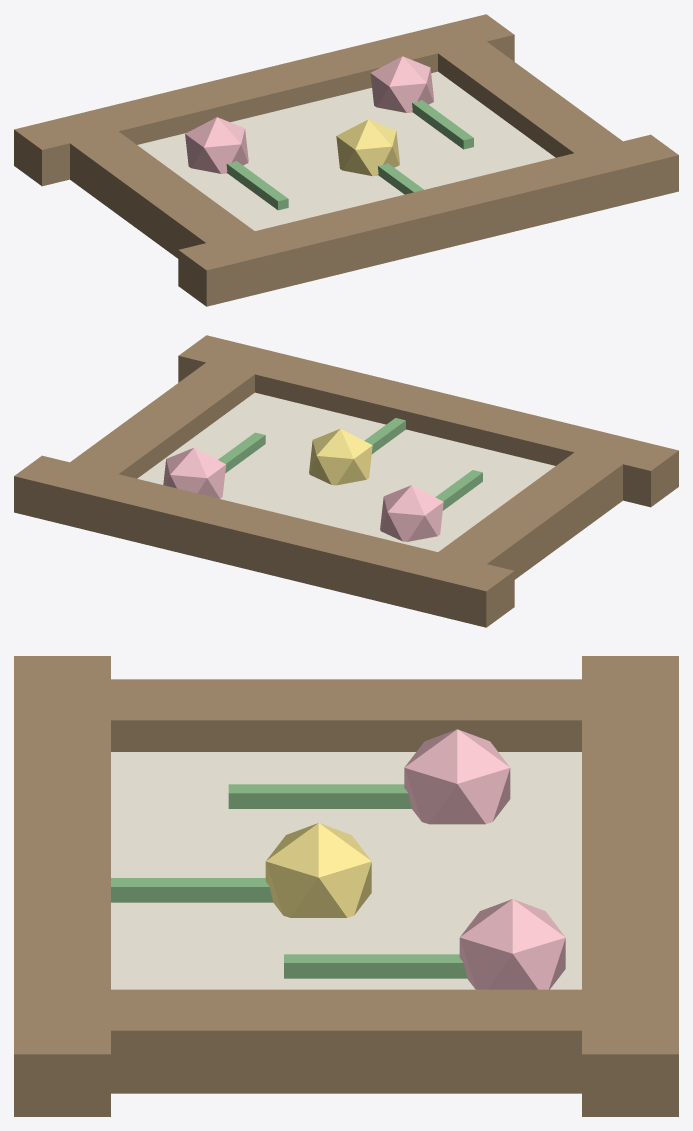
The model's file is 18-Casas_decor_cuadro_floral.glb.
3 views of the same model, one above another, from view 1: azimuth 30°, elevation 25°; view 2: azimuth 150°, elevation 25°; view 3: azimuth 270°, elevation 25° (orthographic). The views are drawn at different scales.
Parts seen in each view (by area): view 1: SM_CuadroFl_Marco, SM_CuadroFl_Lienzo, SM_CuadroFl_Flor, SM_CuadroFl_Flor.002, SM_CuadroFl_Flor.001, SM_CuadroFl_Tallo, SM_CuadroFl_Tallo.002, SM_CuadroFl_Tallo.001; view 2: SM_CuadroFl_Marco, SM_CuadroFl_Lienzo, SM_CuadroFl_Flor, SM_CuadroFl_Flor.001, SM_CuadroFl_Flor.002, SM_CuadroFl_Tallo.002, SM_CuadroFl_Tallo, SM_CuadroFl_Tallo.001; view 3: SM_CuadroFl_Marco, SM_CuadroFl_Lienzo, SM_CuadroFl_Flor, SM_CuadroFl_Flor.001, SM_CuadroFl_Flor.002, SM_CuadroFl_Tallo, SM_CuadroFl_Tallo.002, SM_CuadroFl_Tallo.001.
Boxes of the visible parts, x1,y1,x2,y2 form: SM_CuadroFl_Marco: [14, 14, 678, 306]; SM_CuadroFl_Lienzo: [137, 71, 555, 230]; SM_CuadroFl_Flor: [185, 117, 248, 173]; SM_CuadroFl_Flor.002: [370, 56, 433, 112]; SM_CuadroFl_Flor.001: [336, 119, 399, 176]; SM_CuadroFl_Tallo: [226, 161, 288, 210]; SM_CuadroFl_Tallo.002: [412, 100, 473, 149]; SM_CuadroFl_Tallo.001: [378, 163, 423, 194]; SM_CuadroFl_Marco: [14, 335, 678, 627]; SM_CuadroFl_Lienzo: [137, 392, 555, 551]; SM_CuadroFl_Flor: [380, 485, 443, 541]; SM_CuadroFl_Flor.001: [309, 428, 372, 485]; SM_CuadroFl_Flor.002: [163, 448, 226, 498]; SM_CuadroFl_Tallo.002: [218, 432, 265, 473]; SM_CuadroFl_Tallo: [435, 470, 482, 510]; SM_CuadroFl_Tallo.001: [364, 418, 405, 453]; SM_CuadroFl_Marco: [14, 656, 678, 1116]; SM_CuadroFl_Lienzo: [111, 752, 581, 989]; SM_CuadroFl_Flor: [404, 729, 510, 824]; SM_CuadroFl_Flor.001: [265, 823, 371, 917]; SM_CuadroFl_Flor.002: [459, 899, 565, 989]; SM_CuadroFl_Tallo: [228, 784, 411, 808]; SM_CuadroFl_Tallo.002: [284, 954, 466, 978]; SM_CuadroFl_Tallo.001: [111, 878, 273, 902].
Size of the model in its own units: 0.68 by 0.09 by 0.48.
